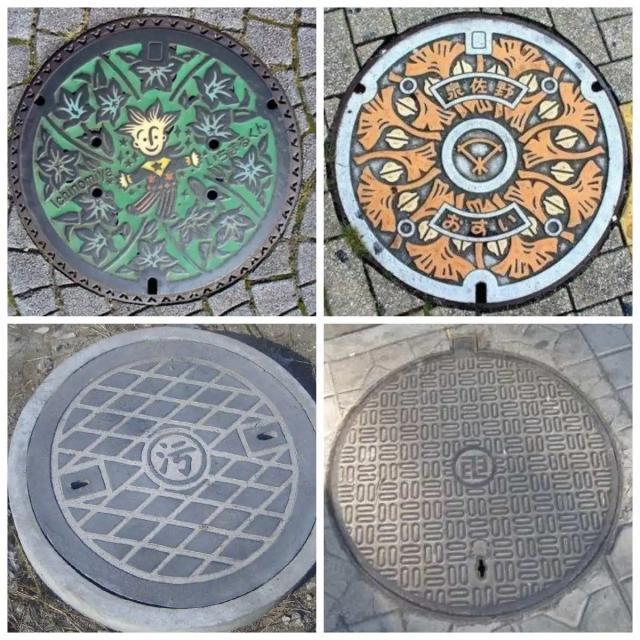manhole: (11, 328, 314, 631), (330, 14, 628, 308), (10, 16, 301, 304), (330, 350, 619, 614)
